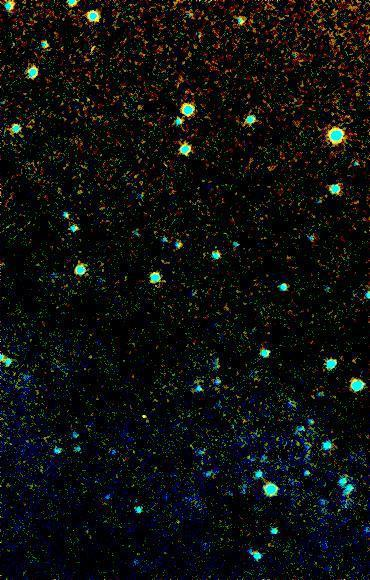star: (130, 396, 160, 426)
